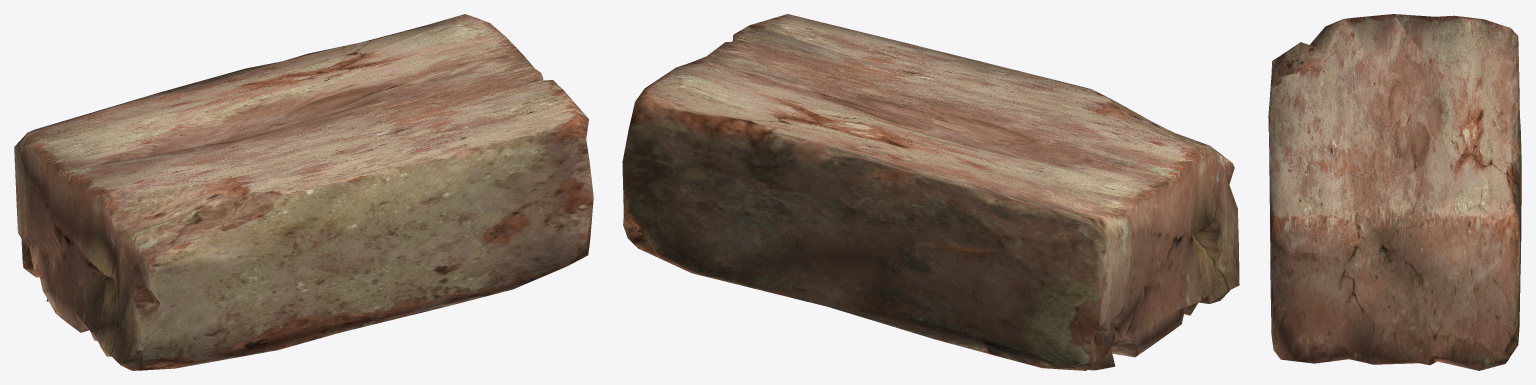
File: redbrick-optimized.glb
The picture shows the model from 3 angles, left to right: view 1: azimuth 30°, elevation 25°; view 2: azimuth 150°, elevation 25°; view 3: azimuth 270°, elevation 25°; orthographic projection. The views are drawn at different scales.
Visible parts, largest first — view 1: RecycledBrick; view 2: RecycledBrick; view 3: RecycledBrick.
Part boxes in pixels (x1,y1,x2,y2): RecycledBrick: (14, 14, 593, 370); RecycledBrick: (622, 14, 1239, 370); RecycledBrick: (1268, 14, 1521, 370).
Size of the model in its own units: 0.22 by 0.075 by 0.105.
1 material, 1 textured.
